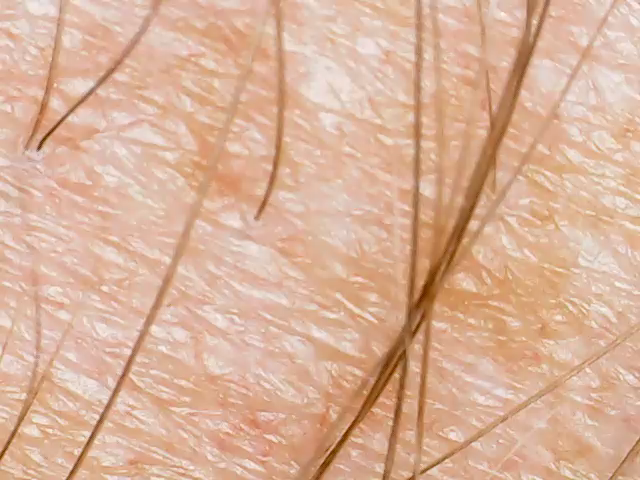folicle: (247, 209, 269, 232), (17, 136, 40, 155), (29, 138, 50, 158), (484, 183, 505, 201)
